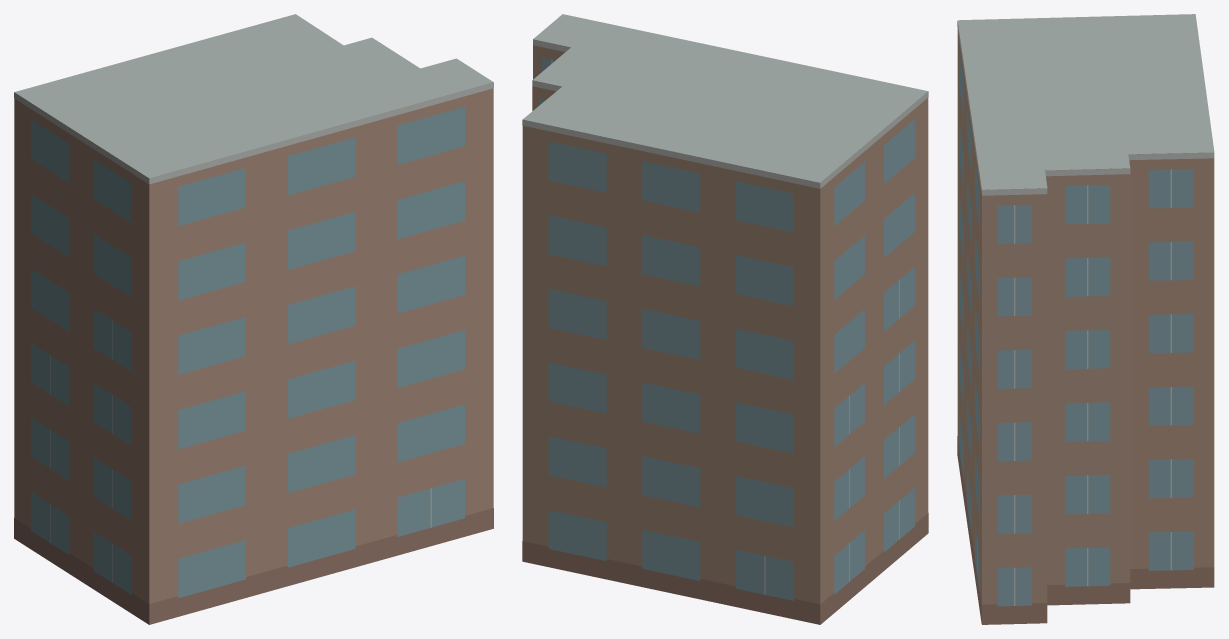
Rendered from survey-upis-32929084.glb.
3 views of the same model, side by side, from view 1: azimuth 30°, elevation 25°; view 2: azimuth 150°, elevation 25°; view 3: azimuth 270°, elevation 25° (orthographic). The views are drawn at different scales.
Parts seen in each view (by area): view 1: survey-upis-32929084.tmp; view 2: survey-upis-32929084.tmp; view 3: survey-upis-32929084.tmp.
Boxes of the visible parts, x1,y1,x2,y2 form: survey-upis-32929084.tmp: [14, 14, 493, 624]; survey-upis-32929084.tmp: [522, 14, 928, 624]; survey-upis-32929084.tmp: [957, 14, 1214, 624].
Size of the model in its own units: 15.62 by 18 by 9.65.
